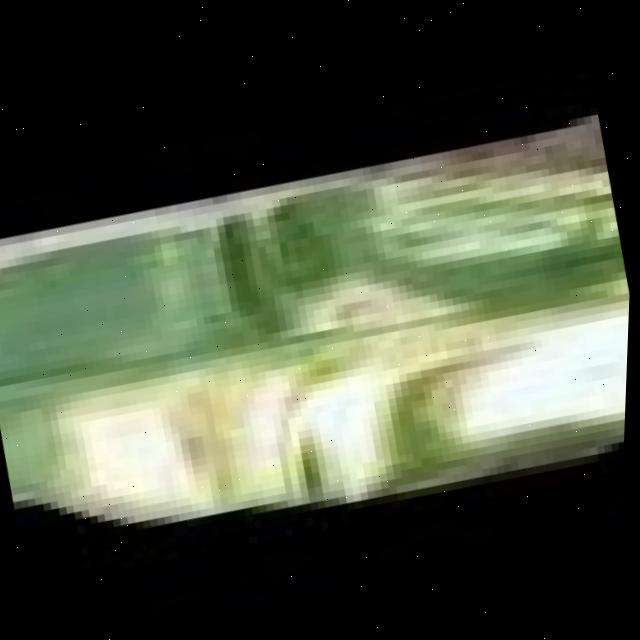mite: (0, 125, 631, 415), (200, 181, 345, 334), (138, 218, 228, 332), (253, 195, 340, 295), (201, 204, 264, 319), (604, 182, 623, 248)
